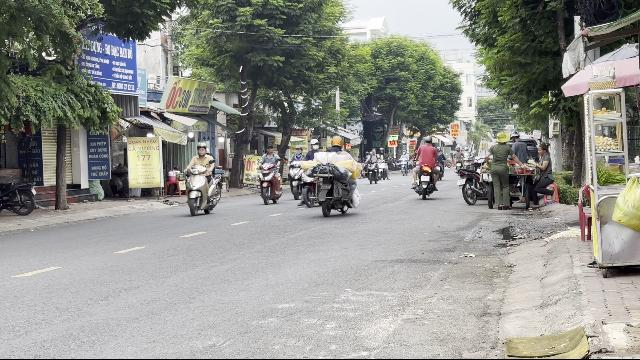helmet: (196, 141, 207, 155)
motorcyclist: (182, 142, 220, 216)
